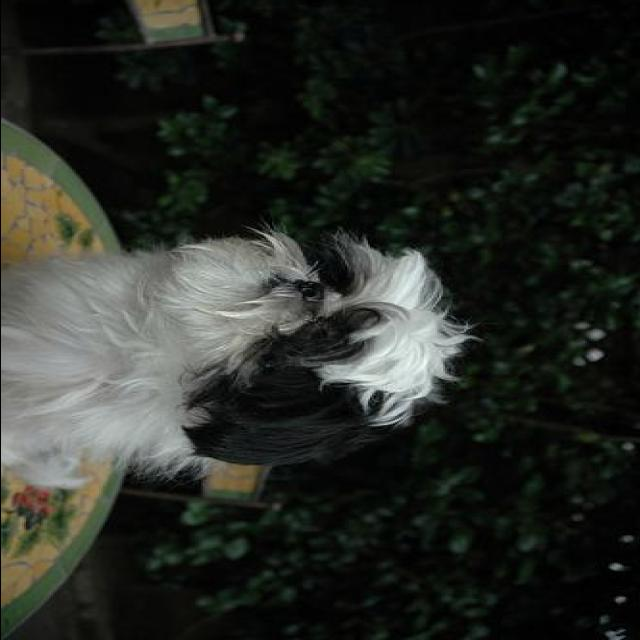shih_tzu: (4, 234, 476, 480)
